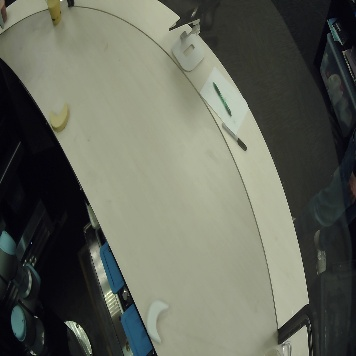full_cup: (47, 1, 62, 26), (1, 1, 8, 23)
puck: (145, 297, 169, 343), (48, 103, 70, 135)
